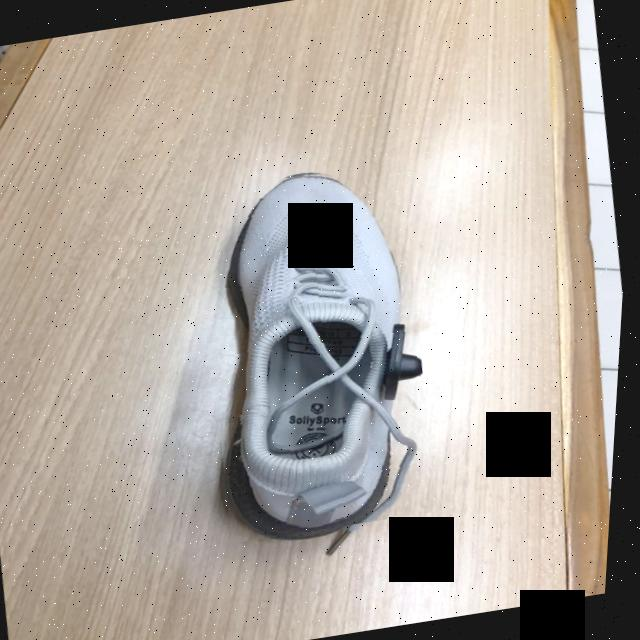shoe: (229, 176, 428, 535)
